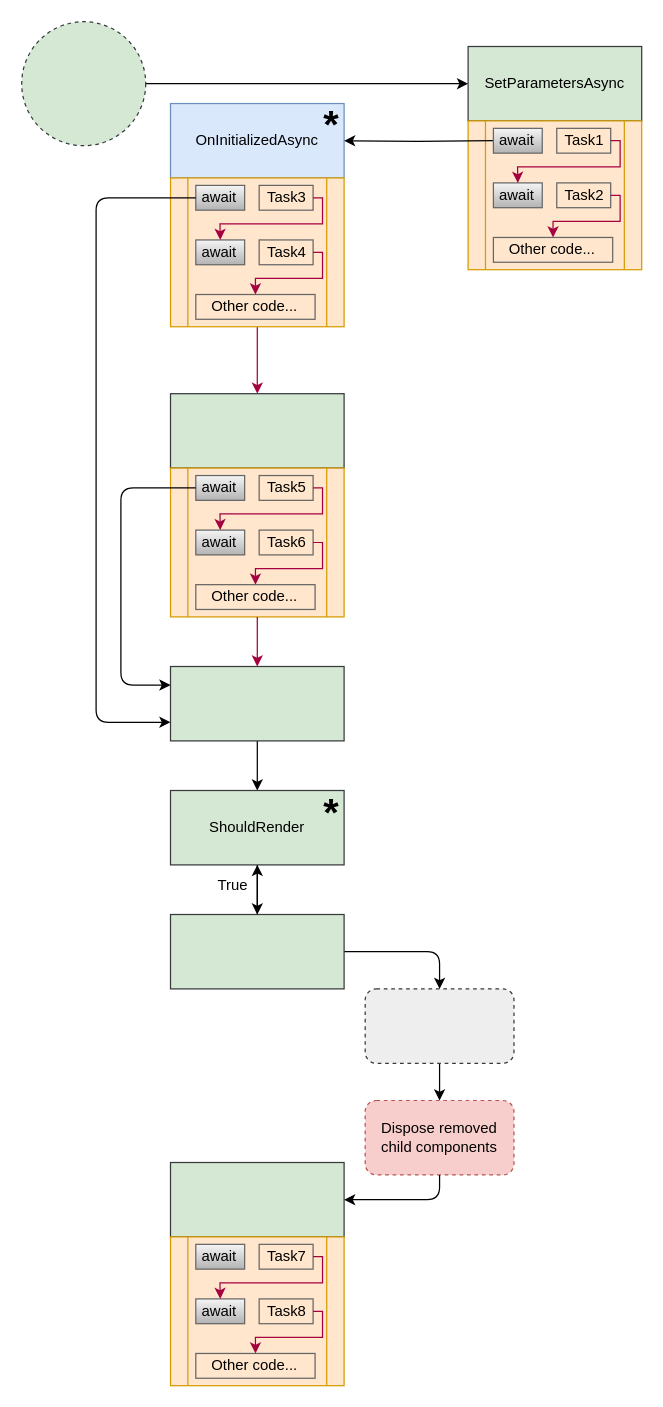
Image size: 663x1407. Some labels were removed from this diagram. Here are the shapes that lost their labels. From the top down, the centre of each, then its label:
At pixel 83 83: "Parent renders".
At pixel 256 430: "OnSetParametersAsync".
At pixel 256 703: "StateHasChanged".
At pixel 256 951: "BuildRenderTree".
At pixel 439 1025: "Create added child components".
At pixel 256 1199: "OnAfterRenderAsync".
